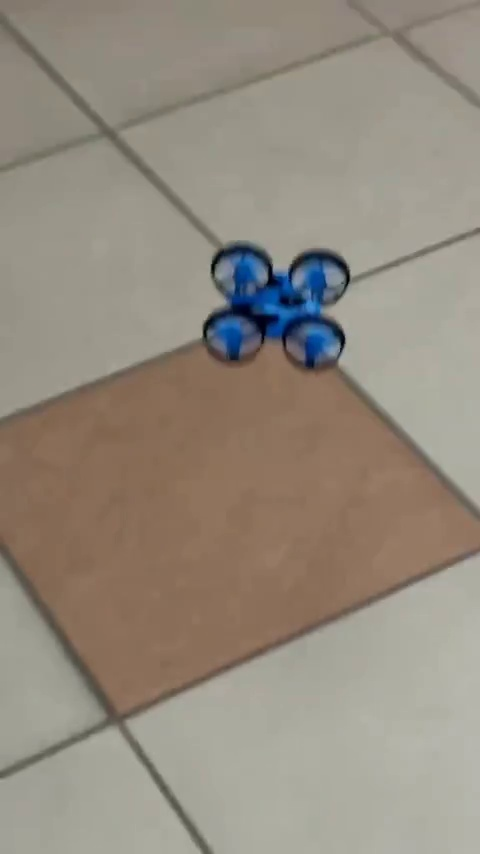drone: (207, 244, 352, 369)
